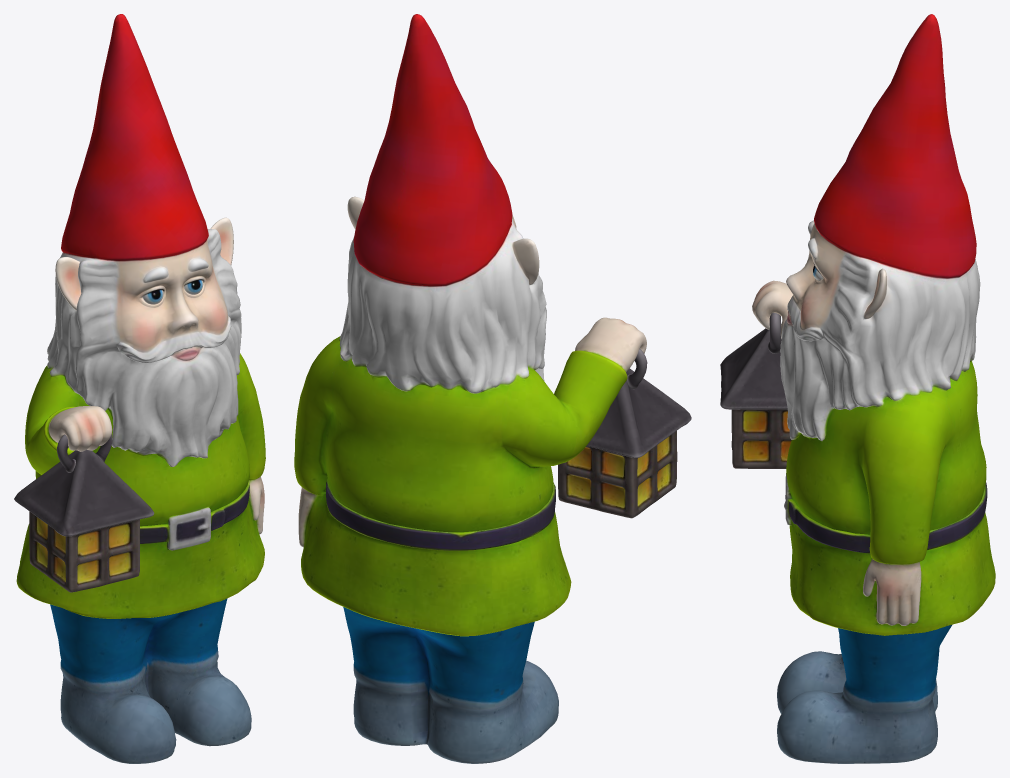
File: garden_gnome.glb
The picture shows the model from 3 angles, left to right: view 1: azimuth 30°, elevation 25°; view 2: azimuth 150°, elevation 25°; view 3: azimuth 270°, elevation 25°; orthographic projection. The views are drawn at different scales.
Parts seen in each view (by area): view 1: garden_gnome; view 2: garden_gnome; view 3: garden_gnome.
Boxes of the visible parts, box(x1,y1,x2,y2) form: garden_gnome: box(14, 14, 265, 763); garden_gnome: box(294, 14, 691, 763); garden_gnome: box(720, 14, 995, 763).
Size of the model in its own units: 0.2579 by 0.5991 by 0.2097.
Materials: 1 (1 with a texture image).
